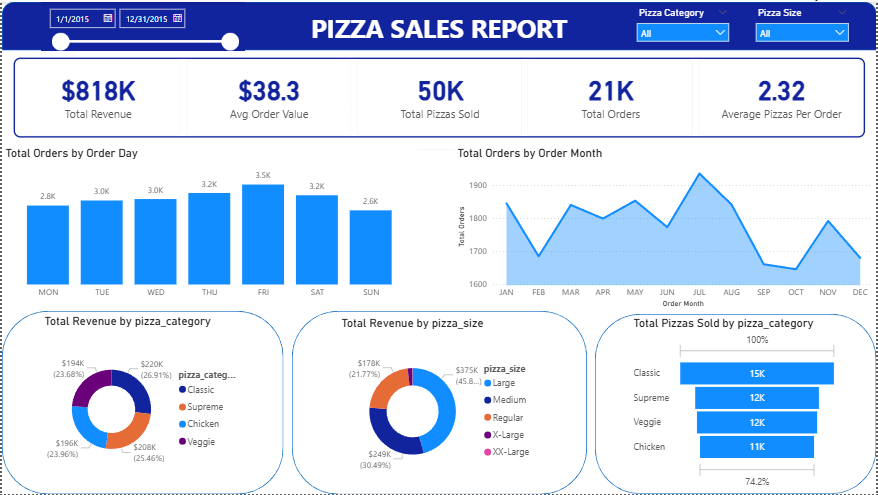

What the dashboard file says about the page in this screenshot:
{"tool":"powerbi","page":{"name":"Page 1","canvas":[1280,720],"ordinal":0},"visuals":[{"type":"cardVisual","fields":{"Data":["pizza_sales_.Total Revenue","pizza_sales_.Avg Order Value","pizza_sales_.Total Pizzas Sold","pizza_sales_.Total Orders","pizza_sales_.Average Pizzas Per Order"]},"box":[0,65,1280,151.7],"z":0},{"type":"shape","box":[0,0,1280,70.8],"z":1000},{"type":"textbox","title":"PIZZA SALES ","box":[411.2,7.3,456.6,73.2],"z":2000},{"type":"shape","box":[0,216.7,661.7,243.3],"z":3000},{"type":"columnChart","fields":{"Category":["pizza_sales_.Order Day"],"Y":["pizza_sales_.Total Orders"]},"box":[0,210,608.3,241.7],"z":4000},{"type":"shape","box":[640,240,640,220],"z":5000},{"type":"areaChart","fields":{"Category":["pizza_sales_.Order Month"],"Y":["pizza_sales_.Total Orders"]},"box":[661.7,210,618.3,241.7],"z":6000},{"type":"shape","box":[0,451.8,411.8,268.2],"z":7000},{"type":"shape","box":[425,451.7,431.7,268.3],"z":8000},{"type":"shape","box":[868.3,456.7,411.7,263.3],"z":9000},{"type":"donutChart","fields":{"Category":["pizza_sales_.pizza_category"],"Y":["pizza_sales_.Total Revenue"]},"box":[57.3,456.4,298.2,260],"z":10000},{"type":"donutChart","fields":{"Y":["pizza_sales_.Total Revenue"],"Category":["pizza_sales_.pizza_size"]},"box":[491.7,460,298.3,260],"z":11000},{"type":"funnel","fields":{"Category":["pizza_sales_.pizza_category"],"Y":["pizza_sales_.Total Pizzas Sold"]},"box":[918.3,460,308.3,256.7],"z":12000},{"type":"slicer","fields":{"Values":["pizza_sales_.pizza_size"]},"box":[1093.3,2.2,155.6,58.9],"z":13000},{"type":"slicer","fields":{"Values":["pizza_sales_.pizza_category"]},"box":[918.8,2.5,155,58.8],"z":14000},{"type":"slicer","fields":{"Values":["pizza_sales_.order_date"]},"box":[56.7,0,297.8,71],"z":15000}]}

Visuals, with their boxes in screenshot pixels (x1, y1, x2, y2), scaled from the page's 1280x720 canvas onto the 878x495 screenshot:
cardVisual - pizza_sales_.Total Revenue x pizza_sales_.Avg Order Value: <bbox>0, 45, 877, 149</bbox>
shape: <bbox>0, 0, 877, 49</bbox>
"PIZZA SALES " textbox: <bbox>282, 5, 595, 55</bbox>
shape: <bbox>0, 149, 454, 316</bbox>
columnChart - pizza_sales_.Order Day x pizza_sales_.Total Orders: <bbox>0, 144, 417, 311</bbox>
shape: <bbox>439, 165, 877, 316</bbox>
areaChart - pizza_sales_.Order Month x pizza_sales_.Total Orders: <bbox>454, 144, 877, 311</bbox>
shape: <bbox>0, 311, 282, 494</bbox>
shape: <bbox>292, 311, 588, 494</bbox>
shape: <bbox>596, 314, 877, 494</bbox>
donutChart - pizza_sales_.pizza_category x pizza_sales_.Total Revenue: <bbox>39, 314, 244, 493</bbox>
donutChart - pizza_sales_.Total Revenue x pizza_sales_.pizza_size: <bbox>337, 316, 542, 494</bbox>
funnel - pizza_sales_.pizza_category x pizza_sales_.Total Pizzas Sold: <bbox>630, 316, 841, 493</bbox>
slicer - pizza_sales_.pizza_size: <bbox>750, 2, 857, 42</bbox>
slicer - pizza_sales_.pizza_category: <bbox>630, 2, 737, 42</bbox>
slicer - pizza_sales_.order_date: <bbox>39, 0, 243, 49</bbox>
